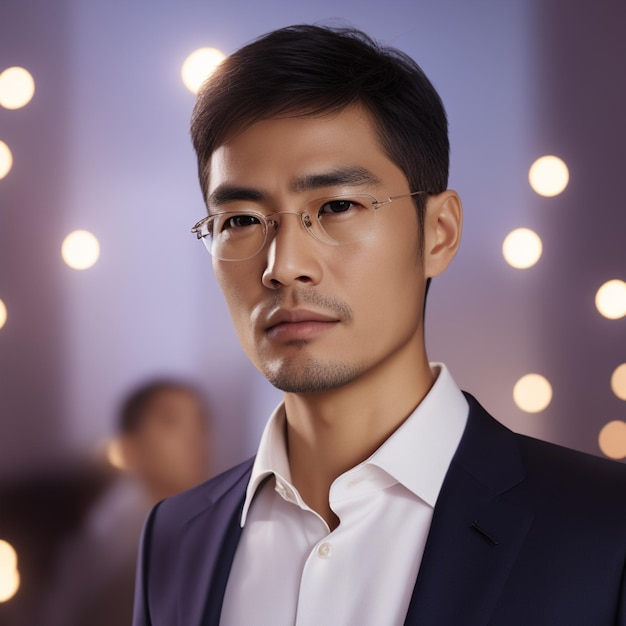young: (190, 37, 449, 400)
